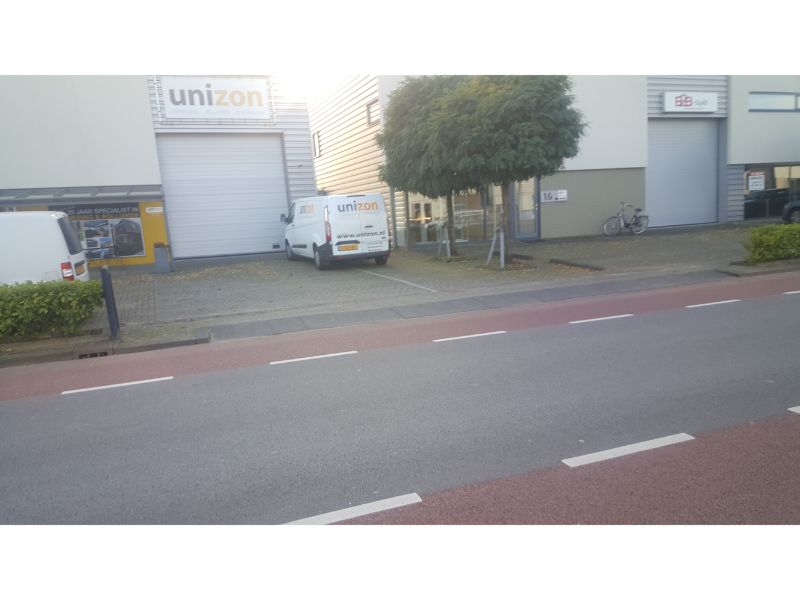kenteken: (337, 243, 357, 251)
